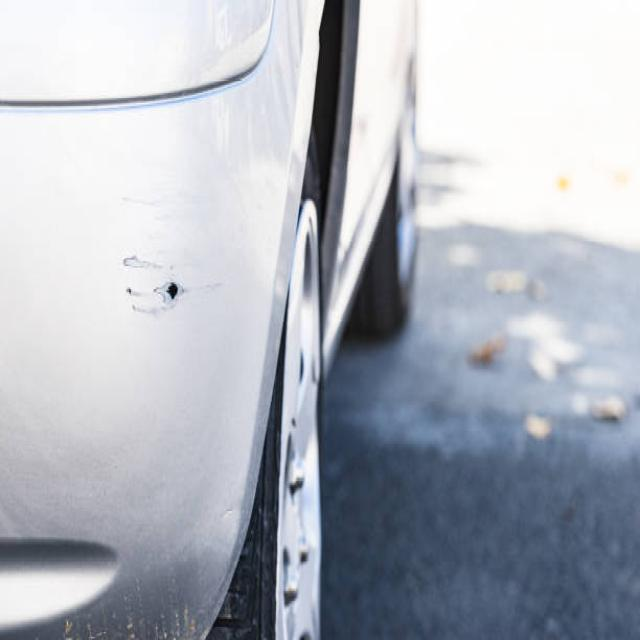scratch: (117, 244, 227, 323), (119, 190, 177, 236)
